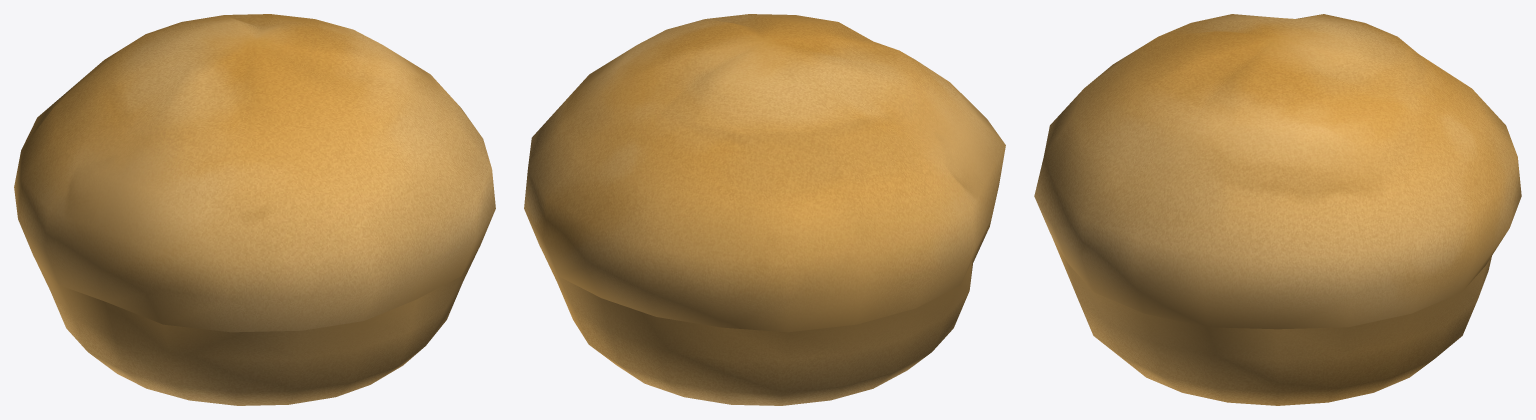
File: choux.fbx
The picture shows the model from 3 angles, left to right: view 1: azimuth 30°, elevation 25°; view 2: azimuth 150°, elevation 25°; view 3: azimuth 270°, elevation 25°; orthographic projection.
Visible parts, largest first — view 1: Object001; view 2: Object001; view 3: Object001.
Boxes of the visible parts, x1,y1,x2,y2 form: Object001: (14, 14, 495, 405); Object001: (524, 14, 1005, 405); Object001: (1034, 14, 1521, 405).
Size of the model in its own units: 39.34 by 29.06 by 39.34.
1 material, 1 textured.
